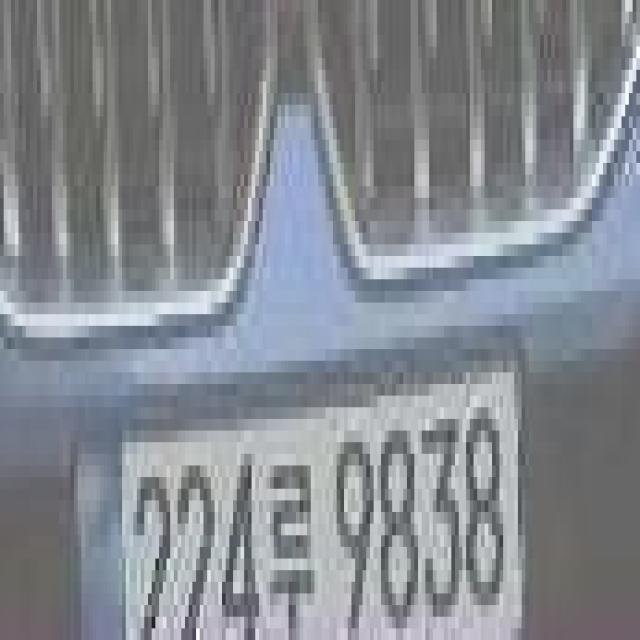illegal_plate: (77, 364, 533, 640)
